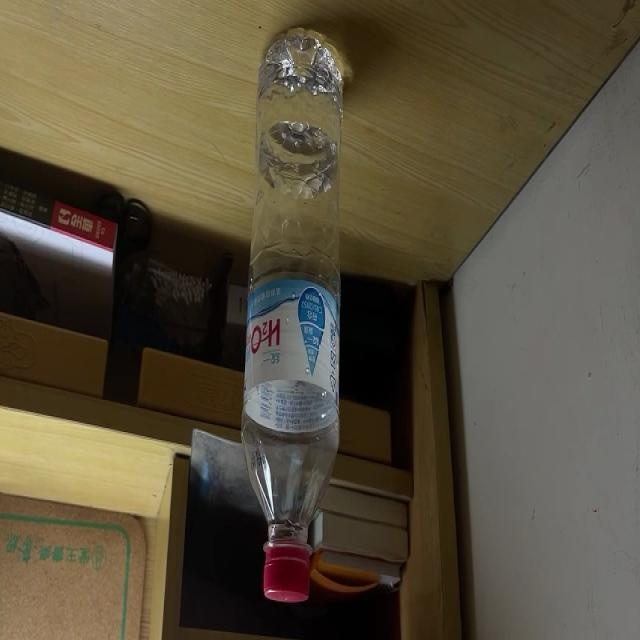Water: (240, 28, 344, 602)
